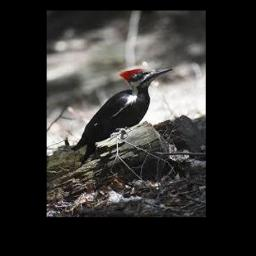Woodpecker: (71, 66, 172, 162)
